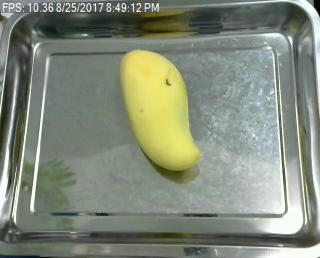Mango: (107, 48, 206, 174)
